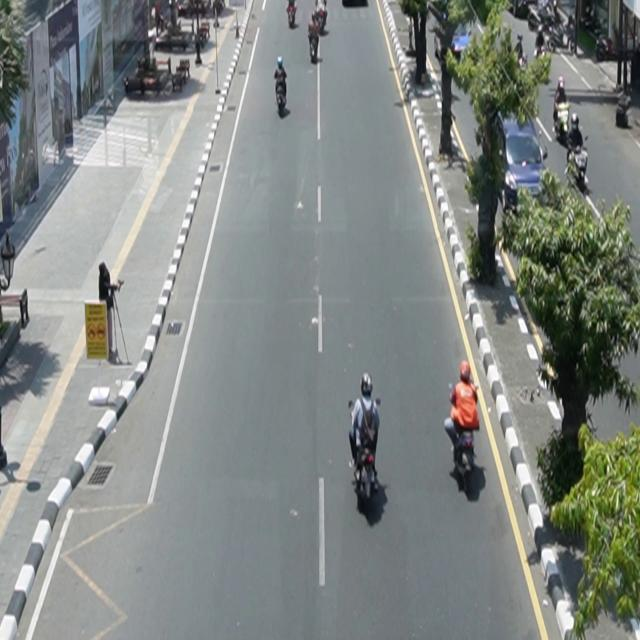car: (496, 109, 549, 215)
